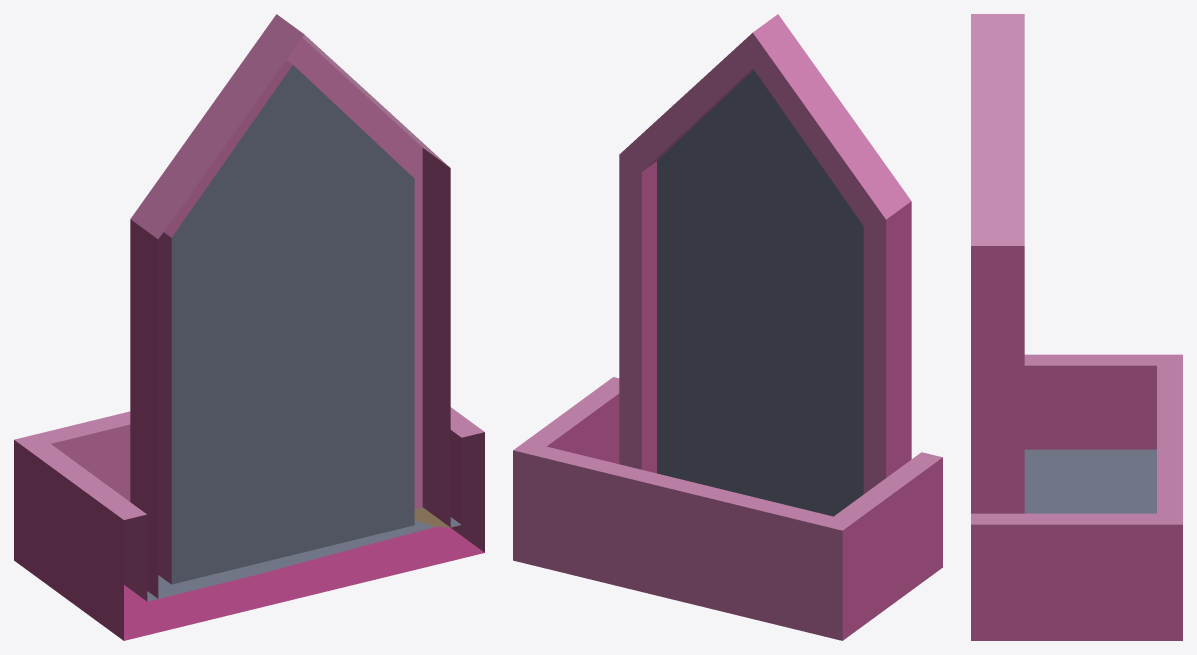
Rendered from squidgame_props_platform_decoration1_pink.fbx.
The picture shows the model from 3 angles, left to right: view 1: azimuth 30°, elevation 25°; view 2: azimuth 150°, elevation 25°; view 3: azimuth 270°, elevation 25°; orthographic projection. The views are drawn at different scales.
Visible parts, largest first — view 1: squidgame_props_platform_decoration1_pink; view 2: squidgame_props_platform_decoration1_pink; view 3: squidgame_props_platform_decoration1_pink.
Boxes of the visible parts, box(x1,y1,x2,y2) form: squidgame_props_platform_decoration1_pink: box(14, 14, 484, 640); squidgame_props_platform_decoration1_pink: box(513, 14, 942, 640); squidgame_props_platform_decoration1_pink: box(971, 14, 1182, 640).
Bounding box in the file's own units: 2 × 2.98 × 1.05.
